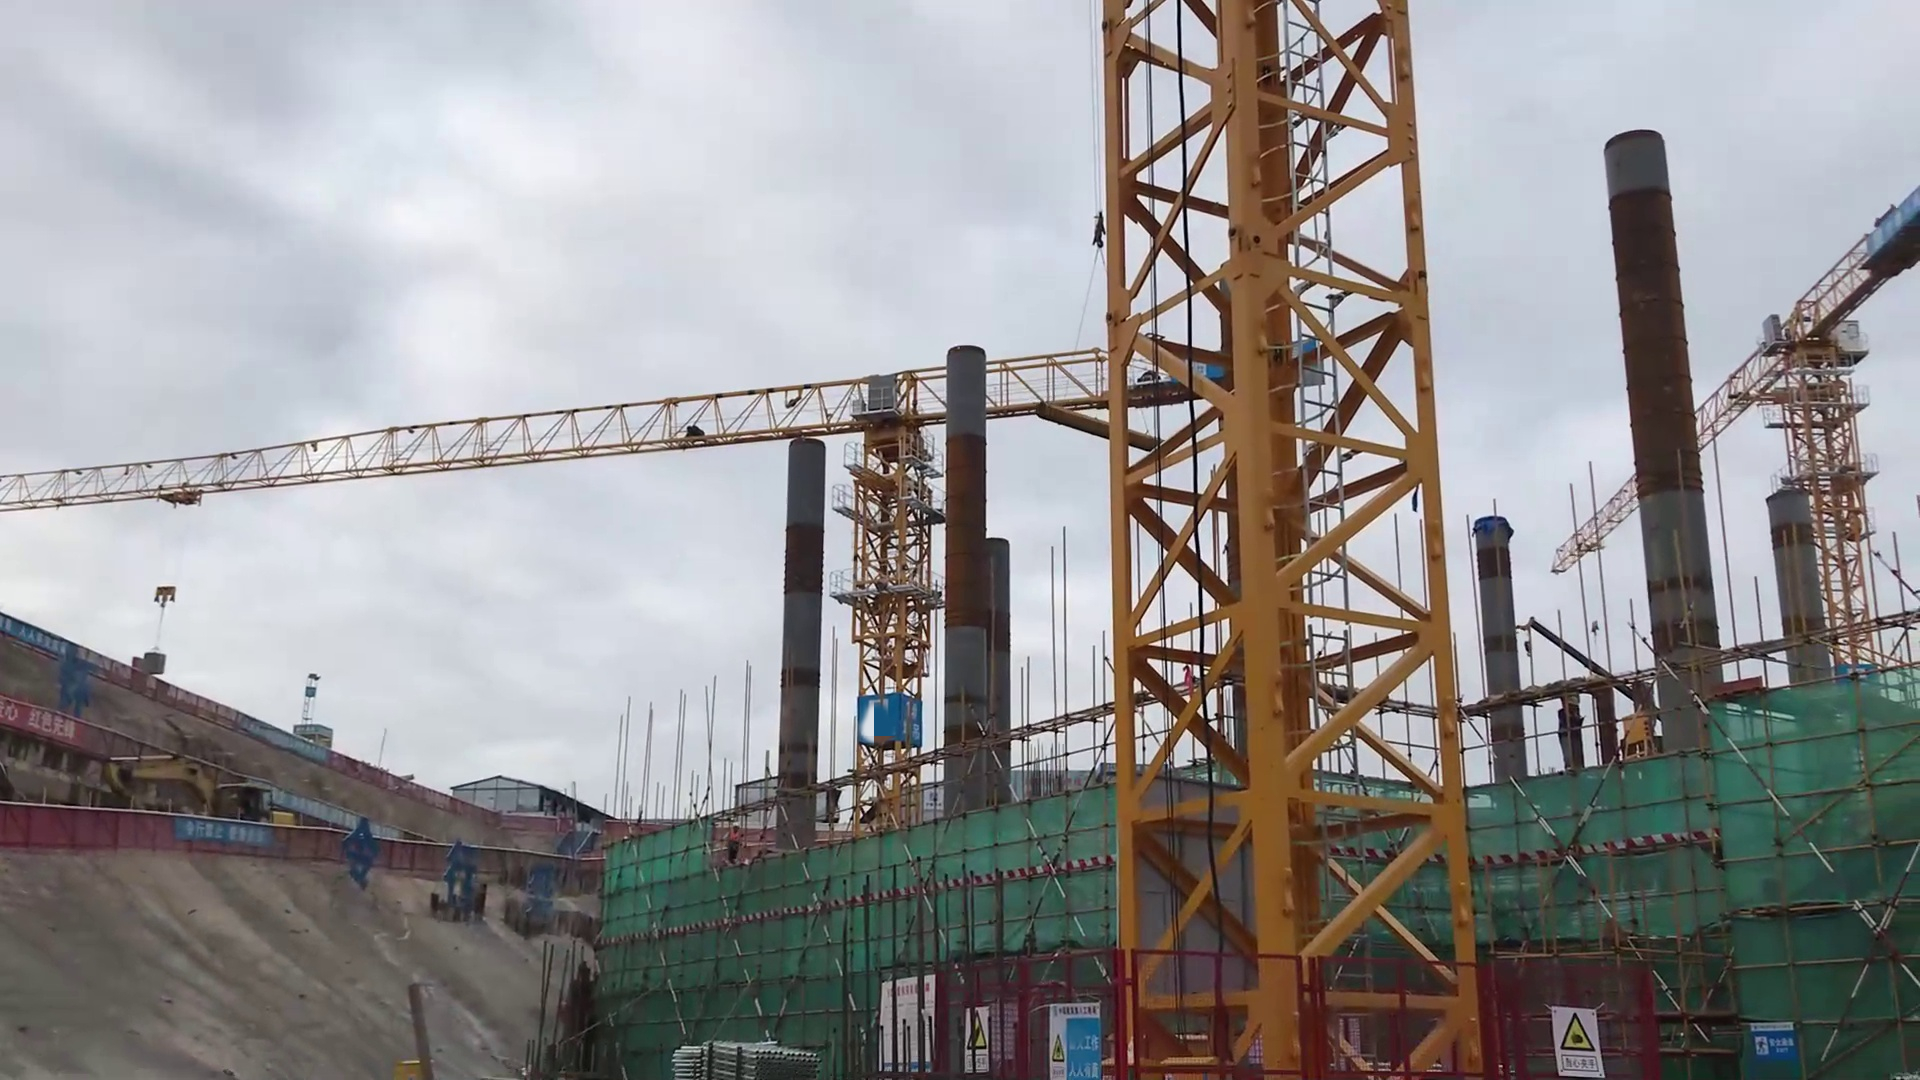ebox: (1623, 708, 1655, 760)
hook: (153, 584, 177, 611)
person: (727, 822, 742, 869)
scaffold: (671, 1035, 839, 1080)
slogan: (1036, 994, 1121, 1080), (880, 972, 949, 1070), (1545, 994, 1625, 1080), (173, 816, 291, 857), (956, 1000, 1008, 1071)
